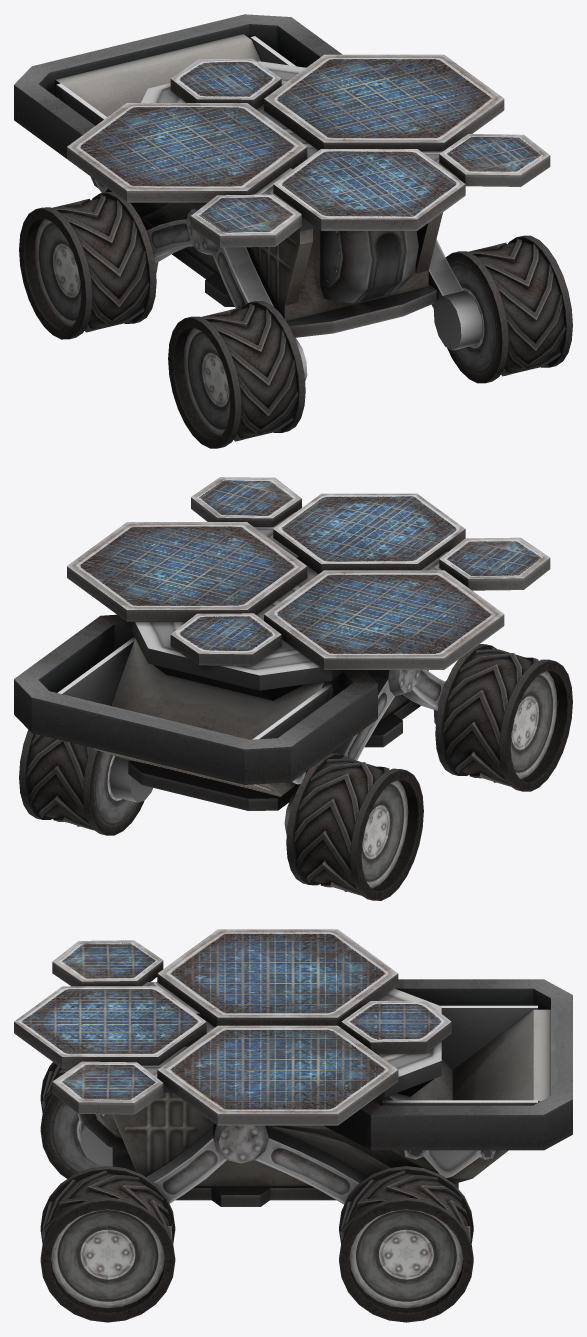
Rendered from rover.dae.
The picture shows the model from 3 angles, top to bottom: view 1: azimuth 30°, elevation 25°; view 2: azimuth 150°, elevation 25°; view 3: azimuth 270°, elevation 25°; orthographic projection.
Parts seen in each view (by area): view 1: Rover; view 2: Rover; view 3: Rover.
Boxes of the visible parts, <box> form: Rover: <box>14,14,572,448</box>; Rover: <box>14,477,572,900</box>; Rover: <box>14,929,572,1322</box>.
Size of the model in its own units: 880 by 1127 by 486.
Materials: 1 (1 with a texture image).
